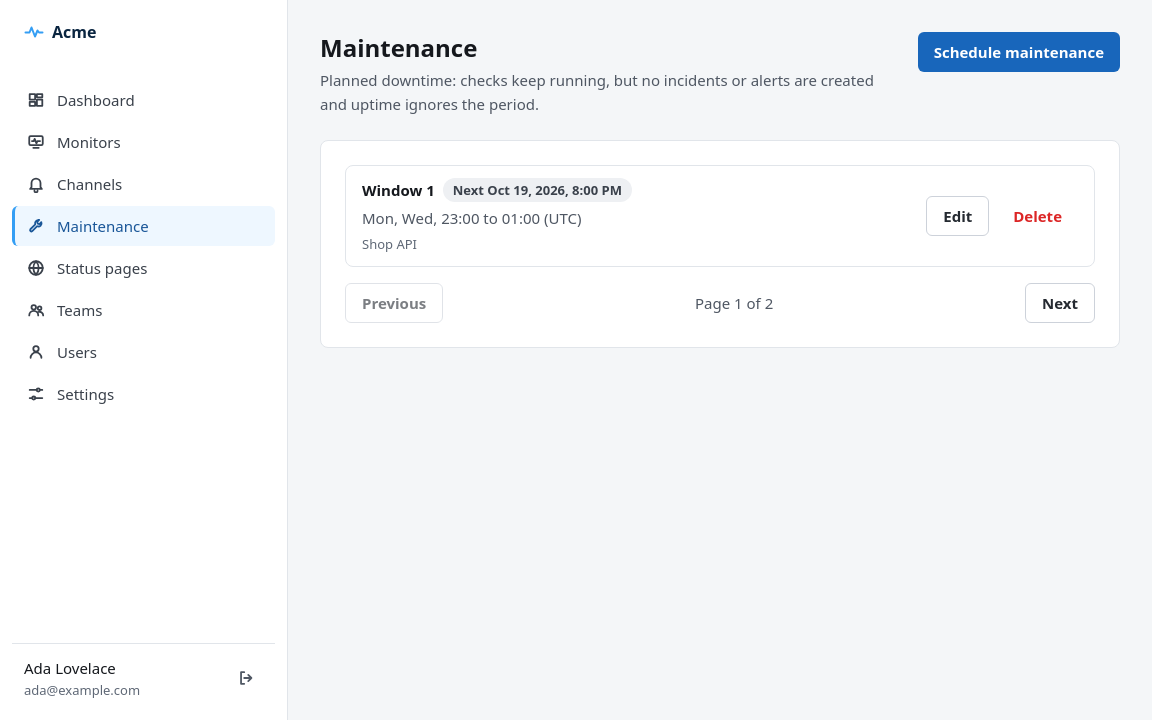
Test case: MaintenancePage › pages through the windows
Check: the text "Window 1" is shown, box left=362, top=178, right=435, bottom=202
Click the button "Next": (1060,303) left=1025, top=283, right=1095, bottom=323
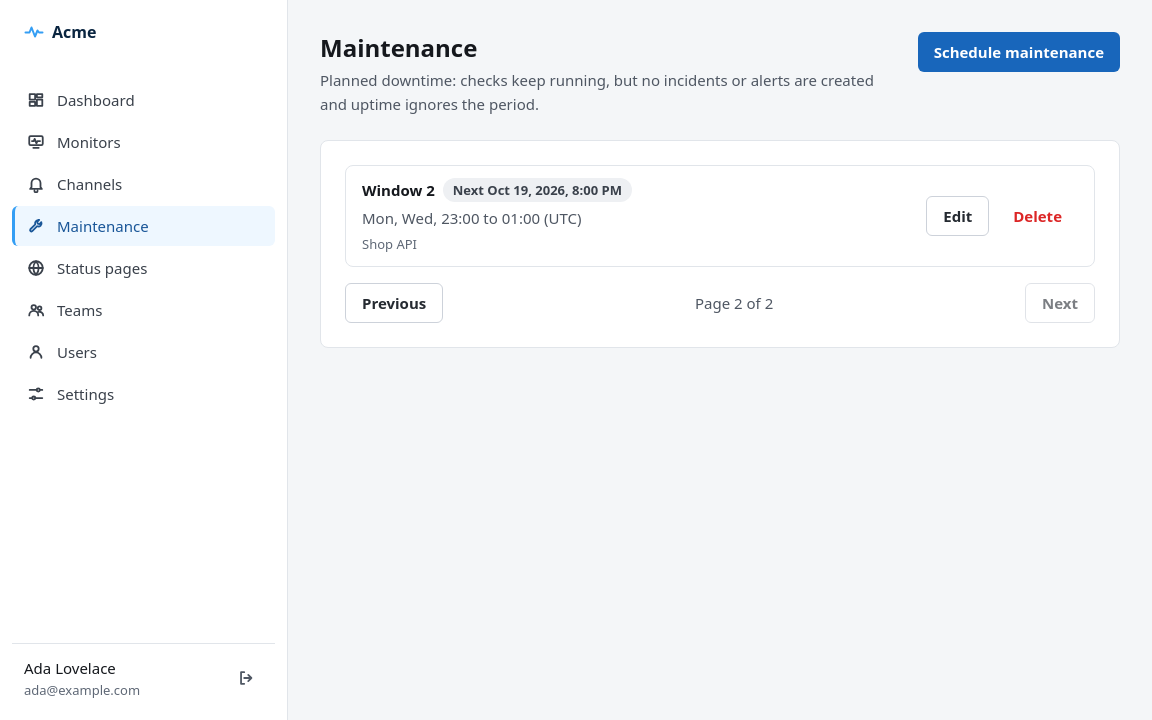
Check: the text "Window 2" is shown, box left=362, top=178, right=435, bottom=202
